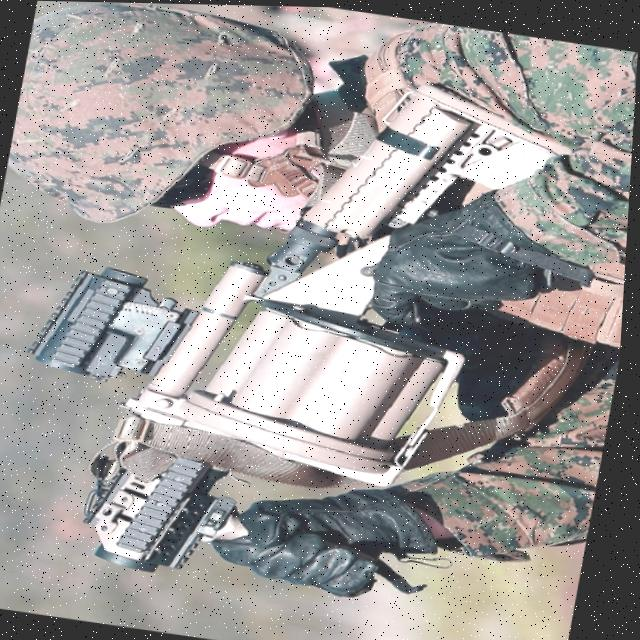rocket: (0, 27, 603, 625)
